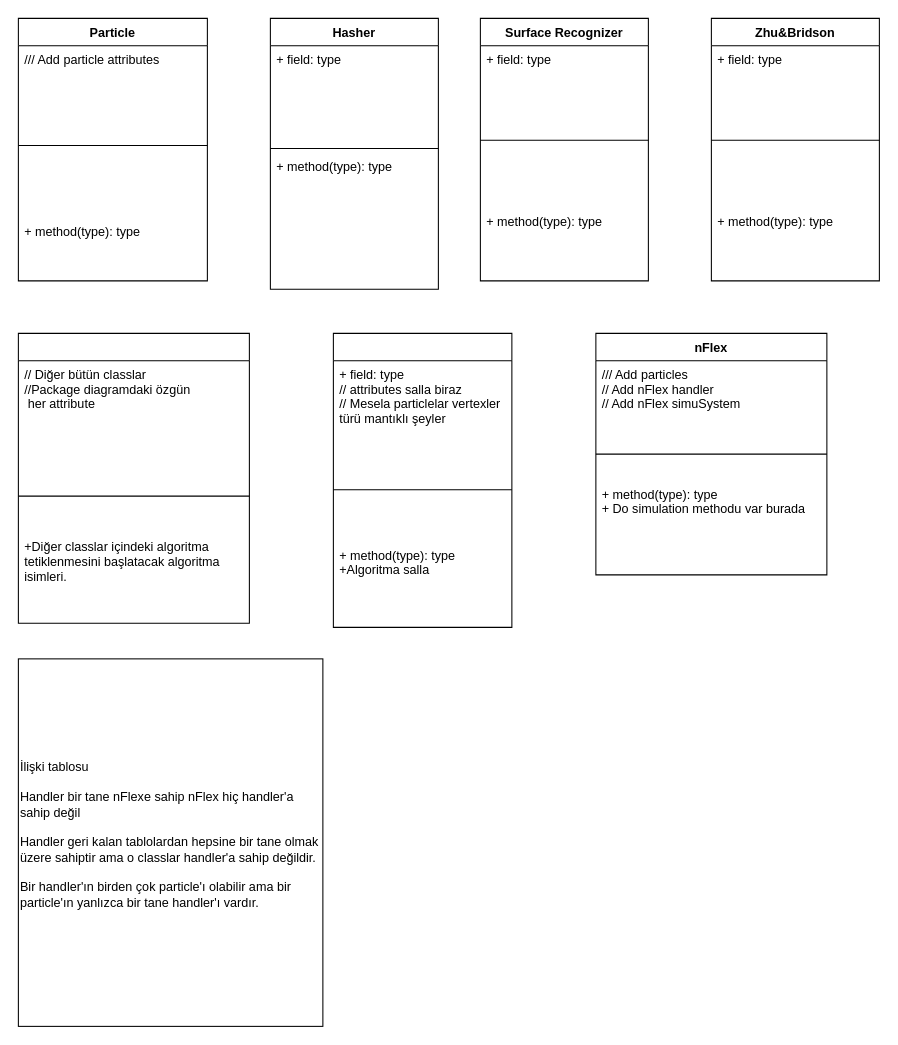
This 898x1045 diagram has some shape labels left out. The box of each missing label's shape, as (x1, y1, x2, y2) in pixels:
Handler: (17, 332, 249, 623)
Marching Cubes: (332, 332, 512, 627)
